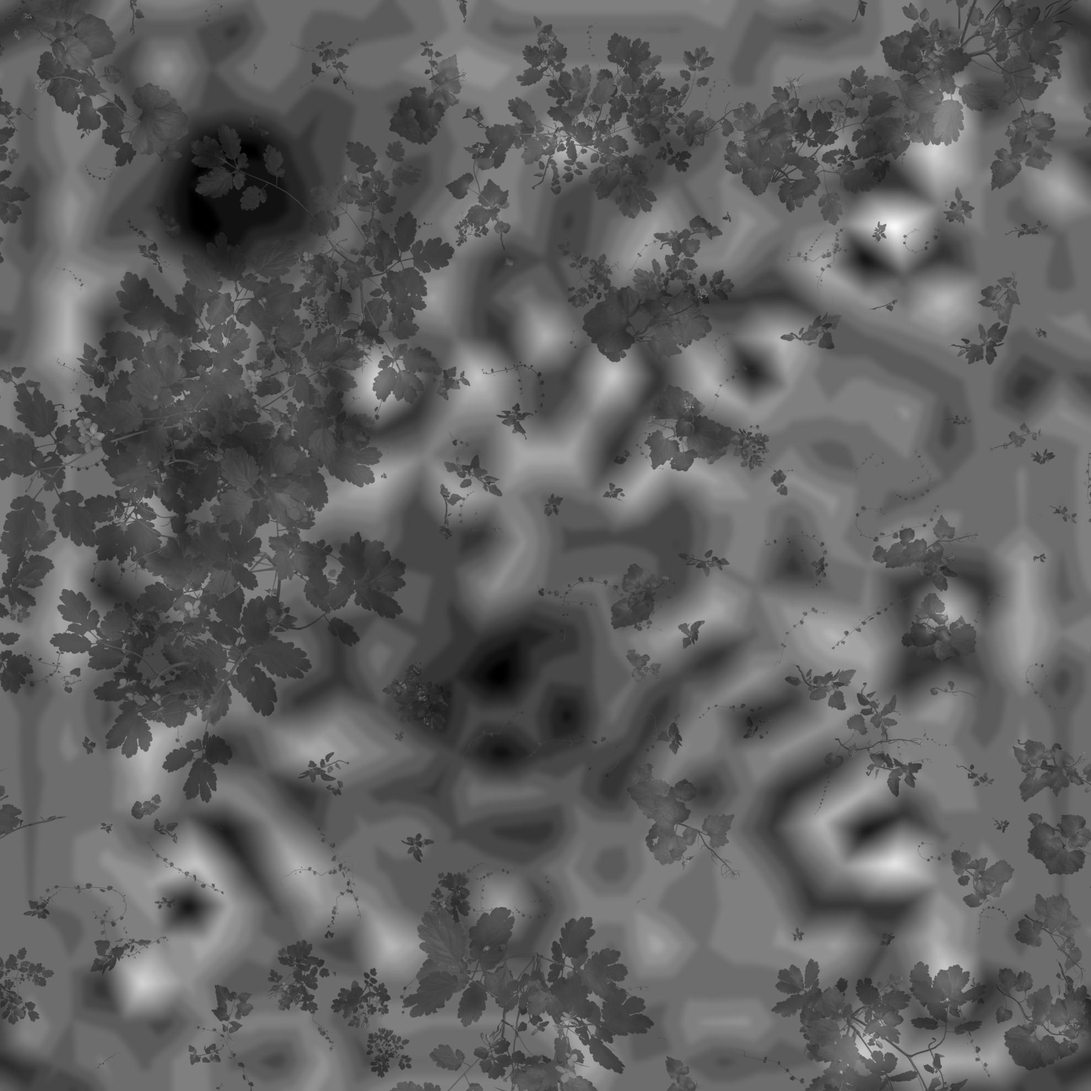landmine: (423, 616, 600, 774), (162, 126, 302, 266)
